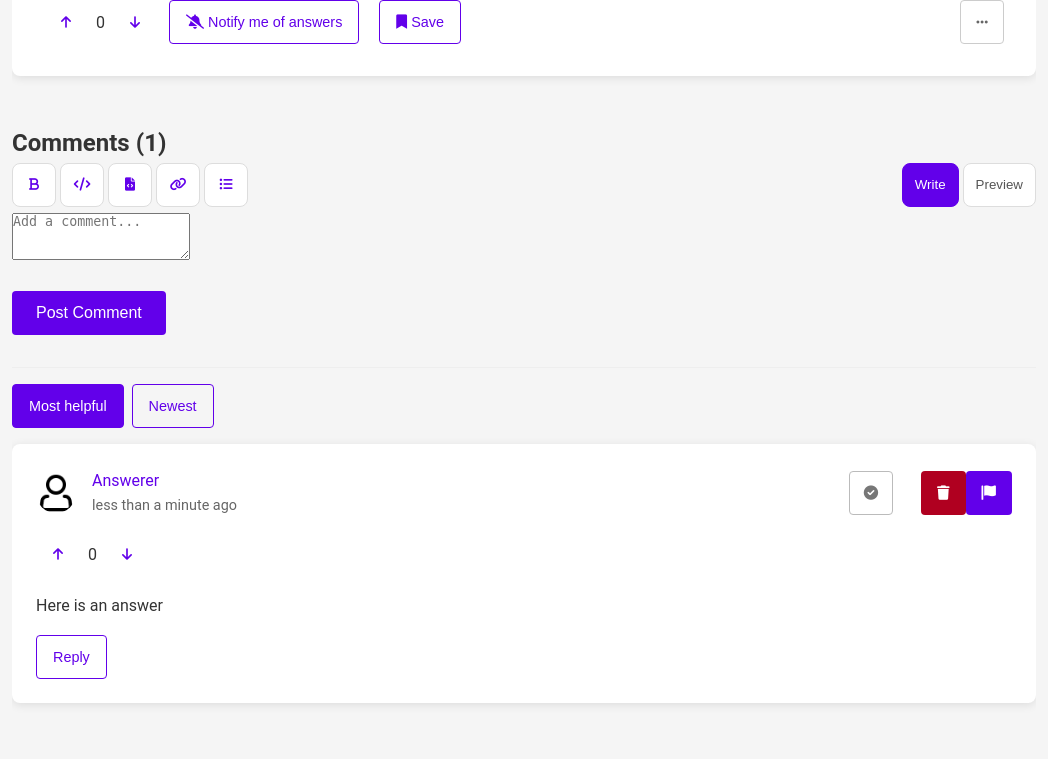
Test case: PostDetail threaded replies › posting a new reply appears under the right parent
(page scrolled)
Expected: the text "Here is an answer" is shown, [36,596,163,615]
Click the button "Reply". click: (71, 657)
box: [36,635,107,679]
(page scrolled)
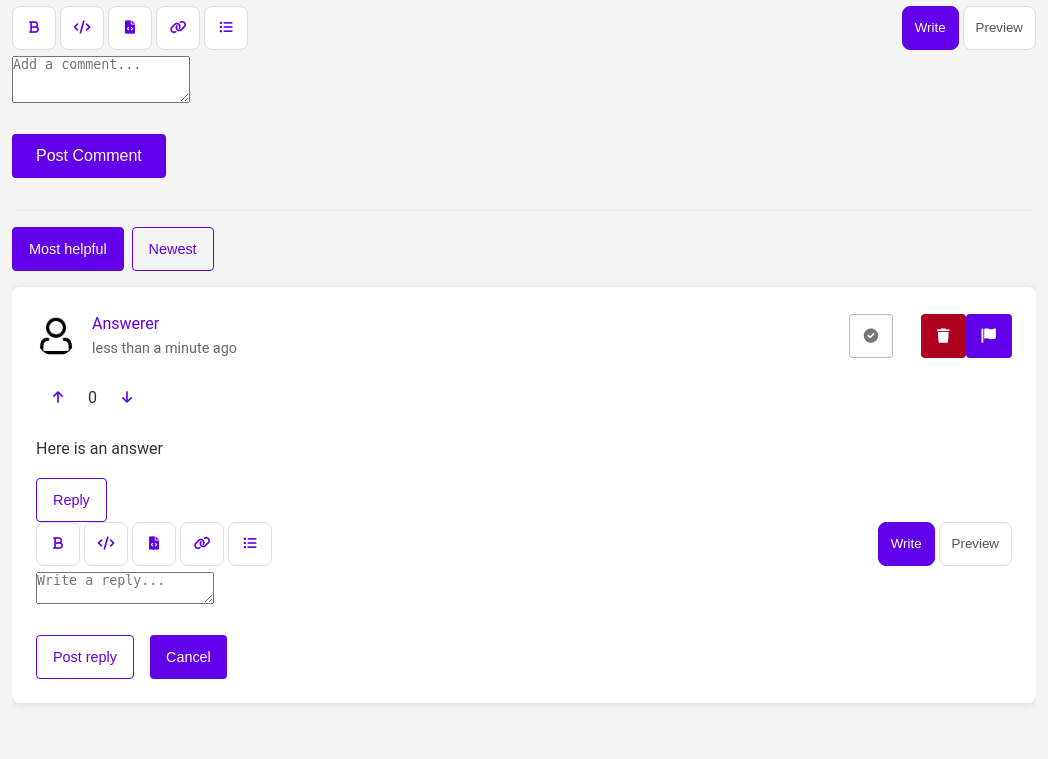
Type "Thanks, that worked!" into the text box with placeholder "Write a reply...". click: (125, 588)
box: [36,572,214,604]
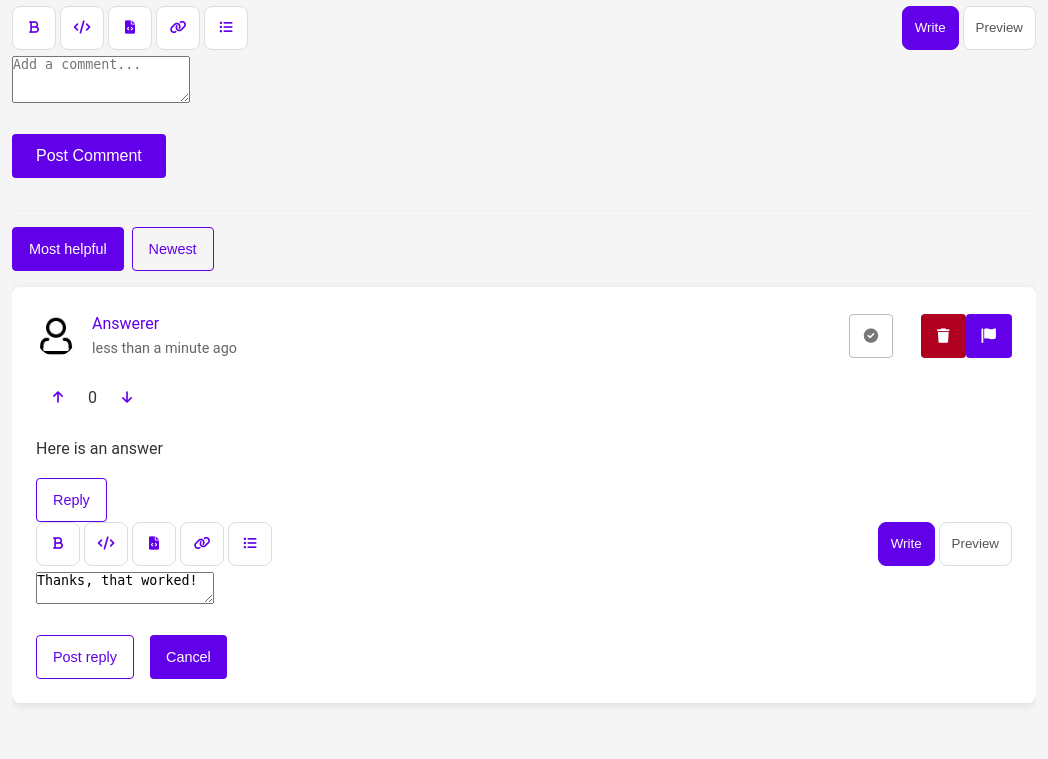
Click the button "Post reply". click: (85, 657)
box: [36,635,134,679]
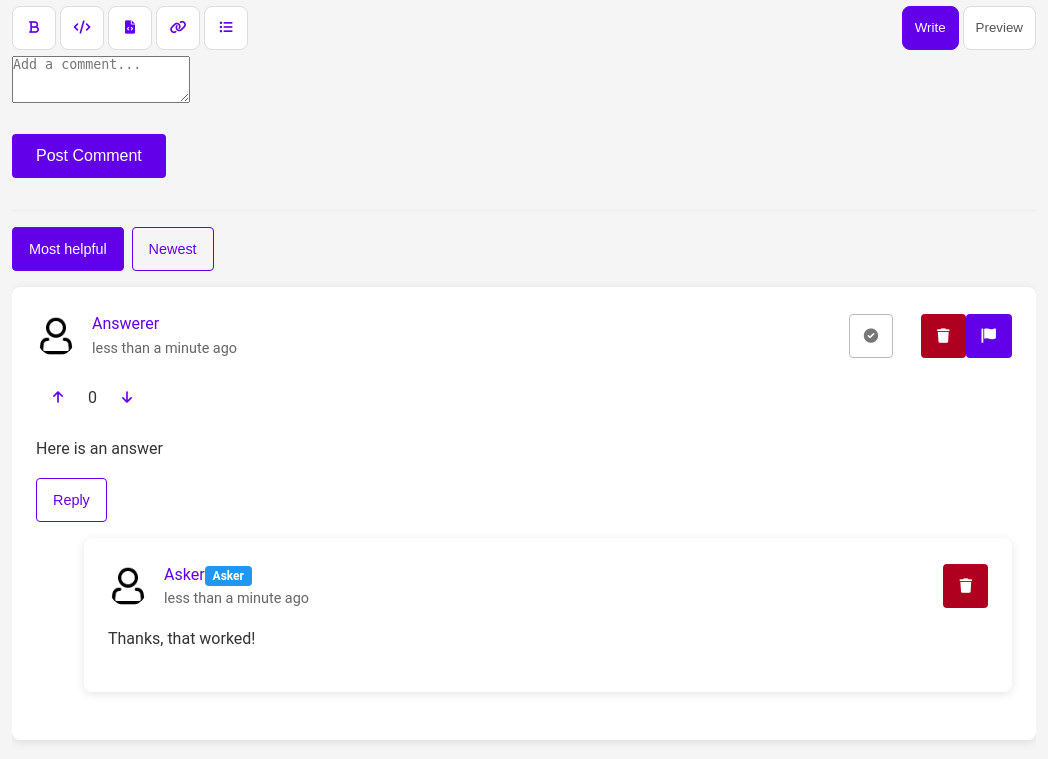
Expected: the text "Thanks, that worked!" is shown, [108,629,256,648]
